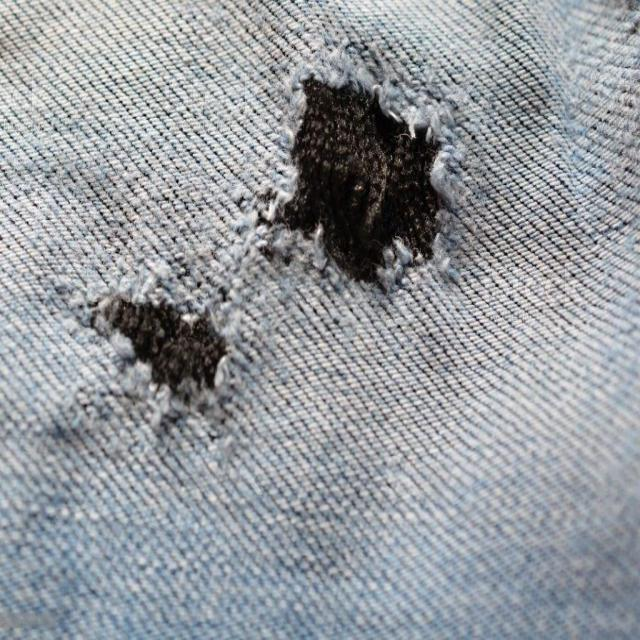Hole: (268, 76, 460, 292), (92, 295, 226, 396)
